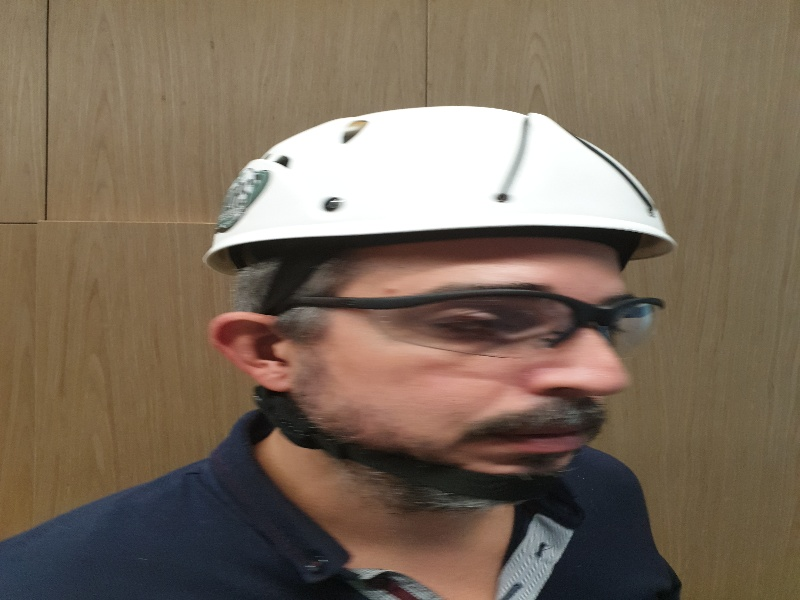Baret: (203, 104, 677, 249)
Gozluk: (289, 291, 667, 360)
